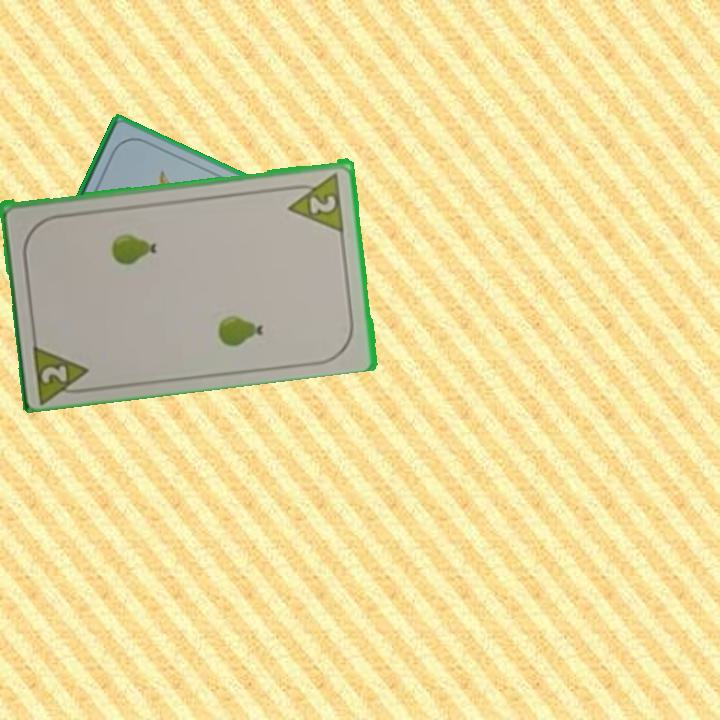2p: (29, 337, 96, 402), (283, 168, 348, 233)
